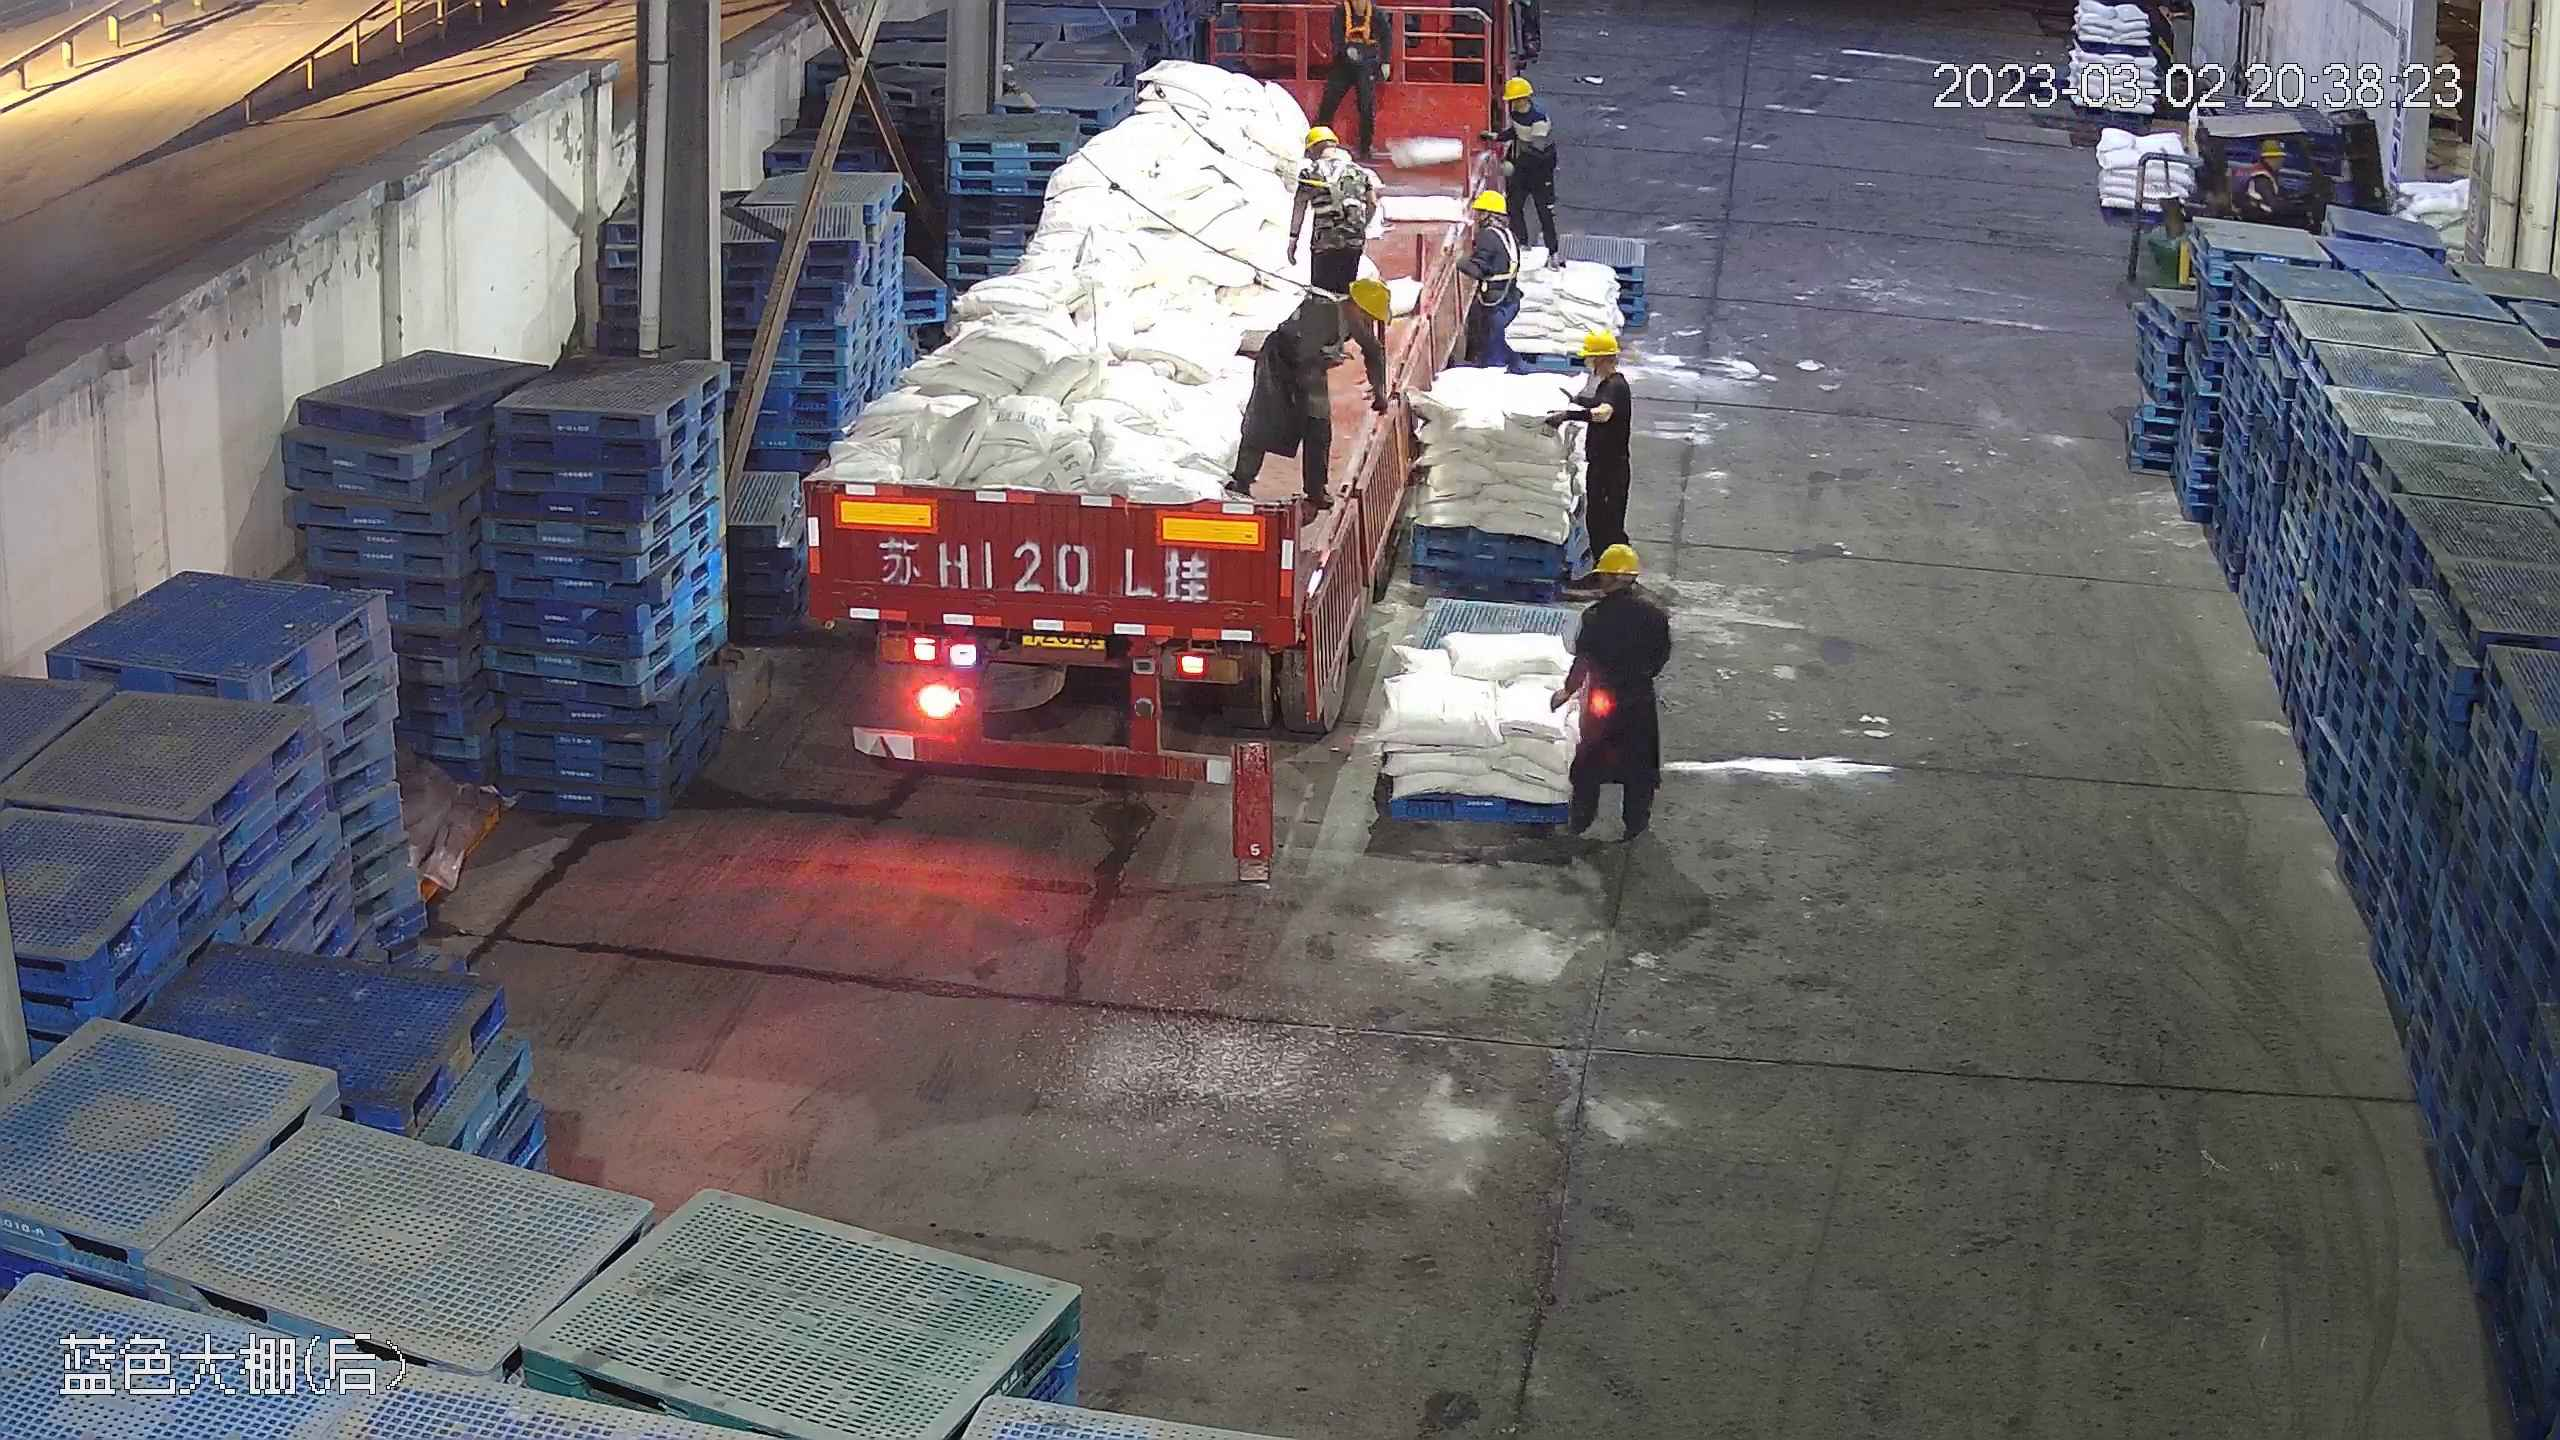belt: (1286, 278, 1355, 350), (1316, 160, 1374, 221), (1471, 225, 1519, 282), (1333, 4, 1382, 49)
head: (1575, 542, 1668, 637), (1295, 273, 1393, 349), (1567, 324, 1634, 404), (1294, 120, 1363, 185), (1458, 187, 1516, 260), (1496, 74, 1552, 132), (1347, 273, 1394, 322)
helmet: (1577, 541, 1668, 633), (1348, 272, 1395, 323), (1591, 541, 1643, 576), (1470, 189, 1514, 226), (1575, 325, 1619, 357), (1302, 122, 1338, 150), (1500, 74, 1531, 100)
people: (1219, 270, 1402, 521), (1549, 539, 1673, 842), (1550, 320, 1638, 579), (1282, 112, 1383, 321), (1441, 181, 1523, 389), (1492, 74, 1562, 267), (1314, 1, 1393, 159), (1320, 1, 1396, 155)
truck: (790, 11, 1459, 777)
